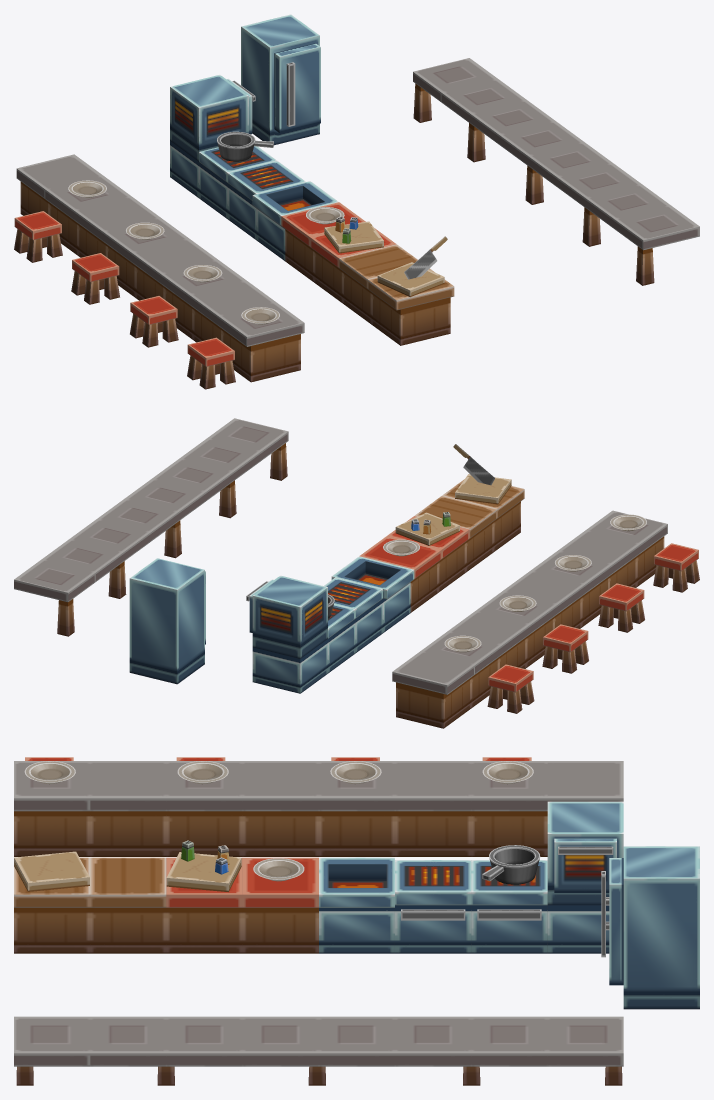
File: CookingStations.FBX
3 renders of one model, top to bottom at view 1: azimuth 30°, elevation 25°; view 2: azimuth 150°, elevation 25°; view 3: azimuth 270°, elevation 25°, orthographic. The views are drawn at different scales.
Parts seen in each view (by area): view 1: Counter, FridgeDoor, CuttingBoard, Pot, Knife; view 2: Counter, CuttingBoard, Knife, Plate, Plate_01, Plate_04, Plate_03, Plate_02; view 3: Counter, OvenDoor, FridgeDoor, CuttingBoard, Pot, Plate_03, Plate, Plate_02, Plate_04, Plate_01, Condiments.
Boxes of the visible parts, bbox=[...] form: Counter: bbox=[14, 14, 699, 389]; FridgeDoor: bbox=[274, 43, 320, 133]; CuttingBoard: bbox=[324, 221, 383, 253]; Pot: bbox=[217, 131, 273, 161]; Knife: bbox=[404, 236, 447, 279]; Counter: bbox=[14, 418, 699, 728]; CuttingBoard: bbox=[395, 512, 459, 545]; Knife: bbox=[453, 444, 494, 485]; Plate: bbox=[383, 539, 419, 556]; Plate_01: bbox=[610, 514, 646, 531]; Plate_04: bbox=[444, 635, 481, 652]; Plate_03: bbox=[499, 595, 536, 611]; Plate_02: bbox=[555, 555, 591, 571]; Counter: bbox=[14, 757, 699, 1085]; OvenDoor: bbox=[554, 838, 616, 892]; FridgeDoor: bbox=[601, 858, 623, 985]; CuttingBoard: bbox=[166, 852, 241, 892]; Pot: bbox=[482, 845, 540, 884]; Plate_03: bbox=[330, 761, 381, 784]; Plate: bbox=[253, 858, 304, 881]; Plate_02: bbox=[177, 761, 228, 784]; Plate_04: bbox=[482, 761, 533, 784]; Plate_01: bbox=[24, 761, 75, 784]; Condiments: bbox=[181, 840, 229, 874].
Bounding box in the file's own units: 16.13 × 3.31 × 14.76.
